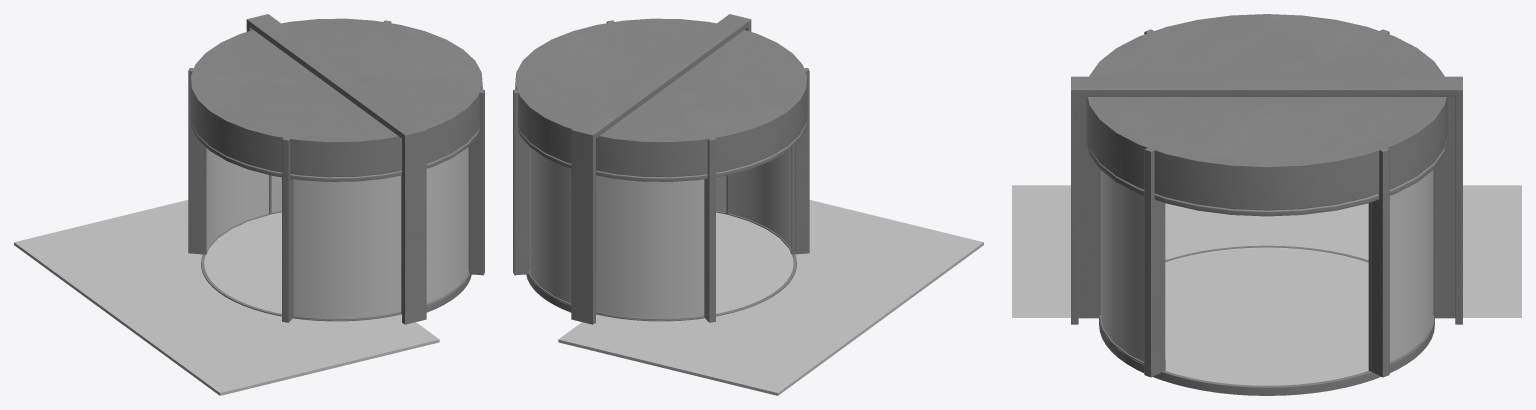
The model's file is SM_Entrance_Rotating_01.fbx.
The picture shows the model from 3 angles, left to right: view 1: azimuth 30°, elevation 25°; view 2: azimuth 150°, elevation 25°; view 3: azimuth 270°, elevation 25°; orthographic projection. The views are drawn at different scales.
Parts seen in each view (by area): view 1: SM_Entrance_Rotating_01_LOD0; view 2: SM_Entrance_Rotating_01_LOD0; view 3: SM_Entrance_Rotating_01_LOD0.
Boxes of the visible parts, bbox=[...] form: SM_Entrance_Rotating_01_LOD0: bbox=[14, 14, 484, 395]; SM_Entrance_Rotating_01_LOD0: bbox=[513, 14, 983, 395]; SM_Entrance_Rotating_01_LOD0: bbox=[1012, 14, 1521, 395].
Bounding box in the file's own units: 631 × 650 × 340.
